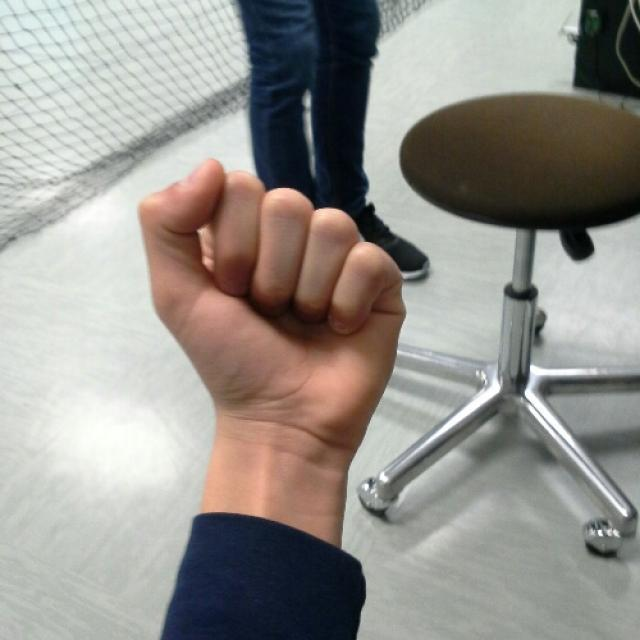fist: (136, 158, 410, 422)
